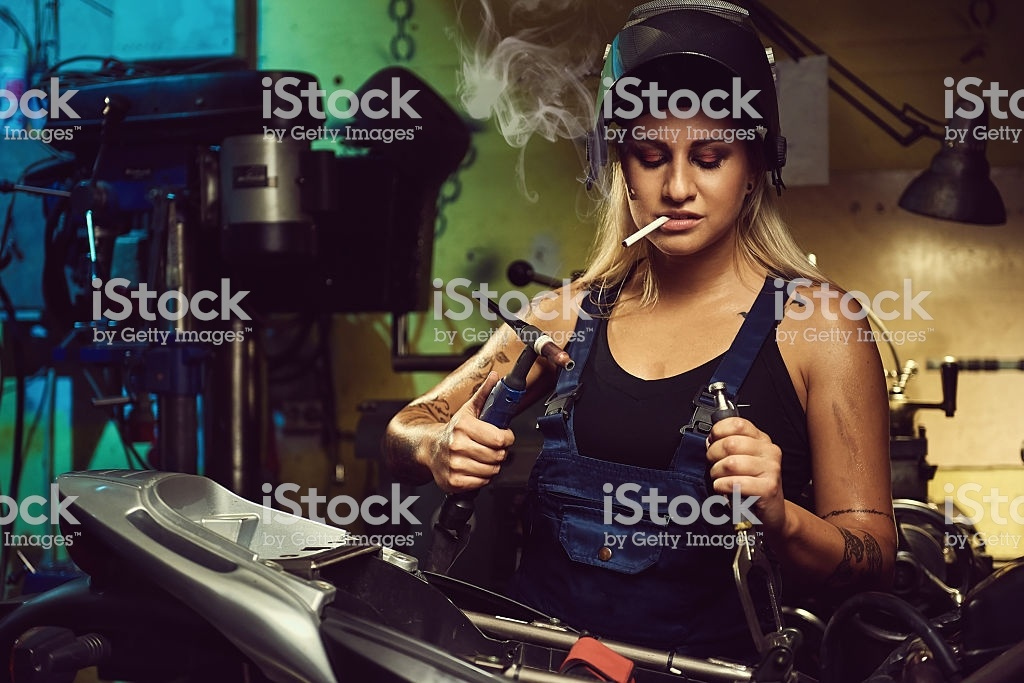sigaretta: (615, 206, 676, 252)
